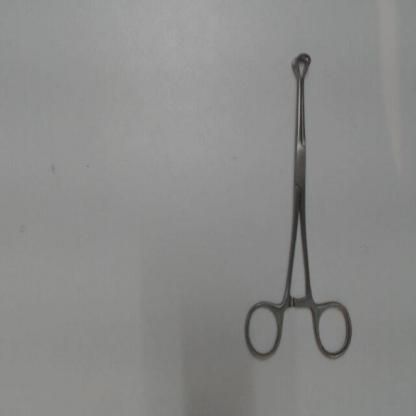Babcock Tissue Forceps: (242, 49, 356, 366)
